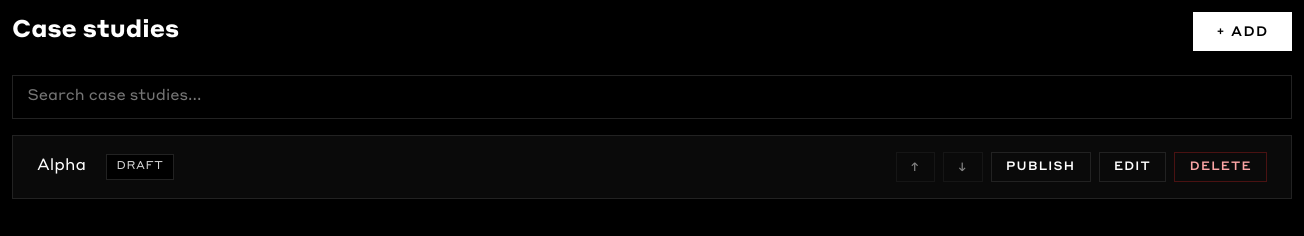
Scenario: CollectionTab row actions › shows a list-level error when a delete fails
Click the button "Delete" at (1221, 167), box 1174,152 -> 1267,182
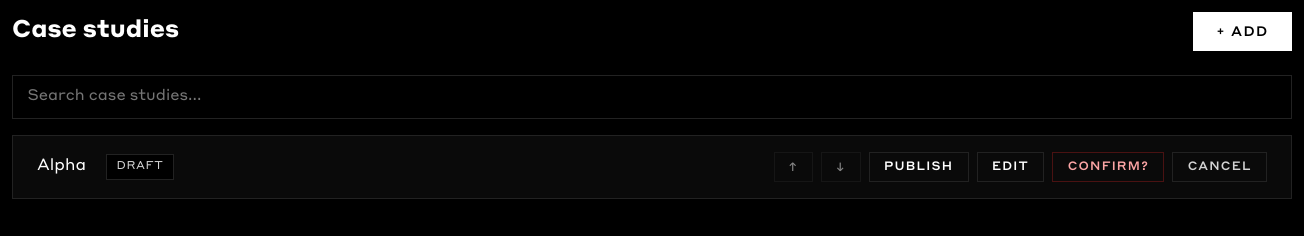
Click the button "Confirm?" at (1108, 167), box 1052,152 -> 1164,182
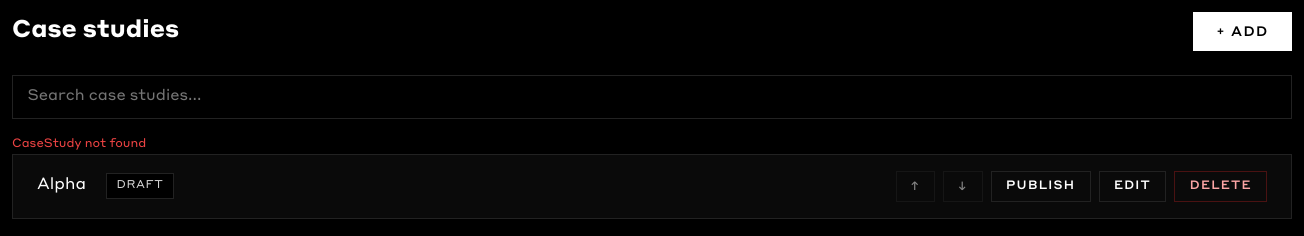
Expected: the message reads "CaseStudy not found", 12,138 -> 146,150
